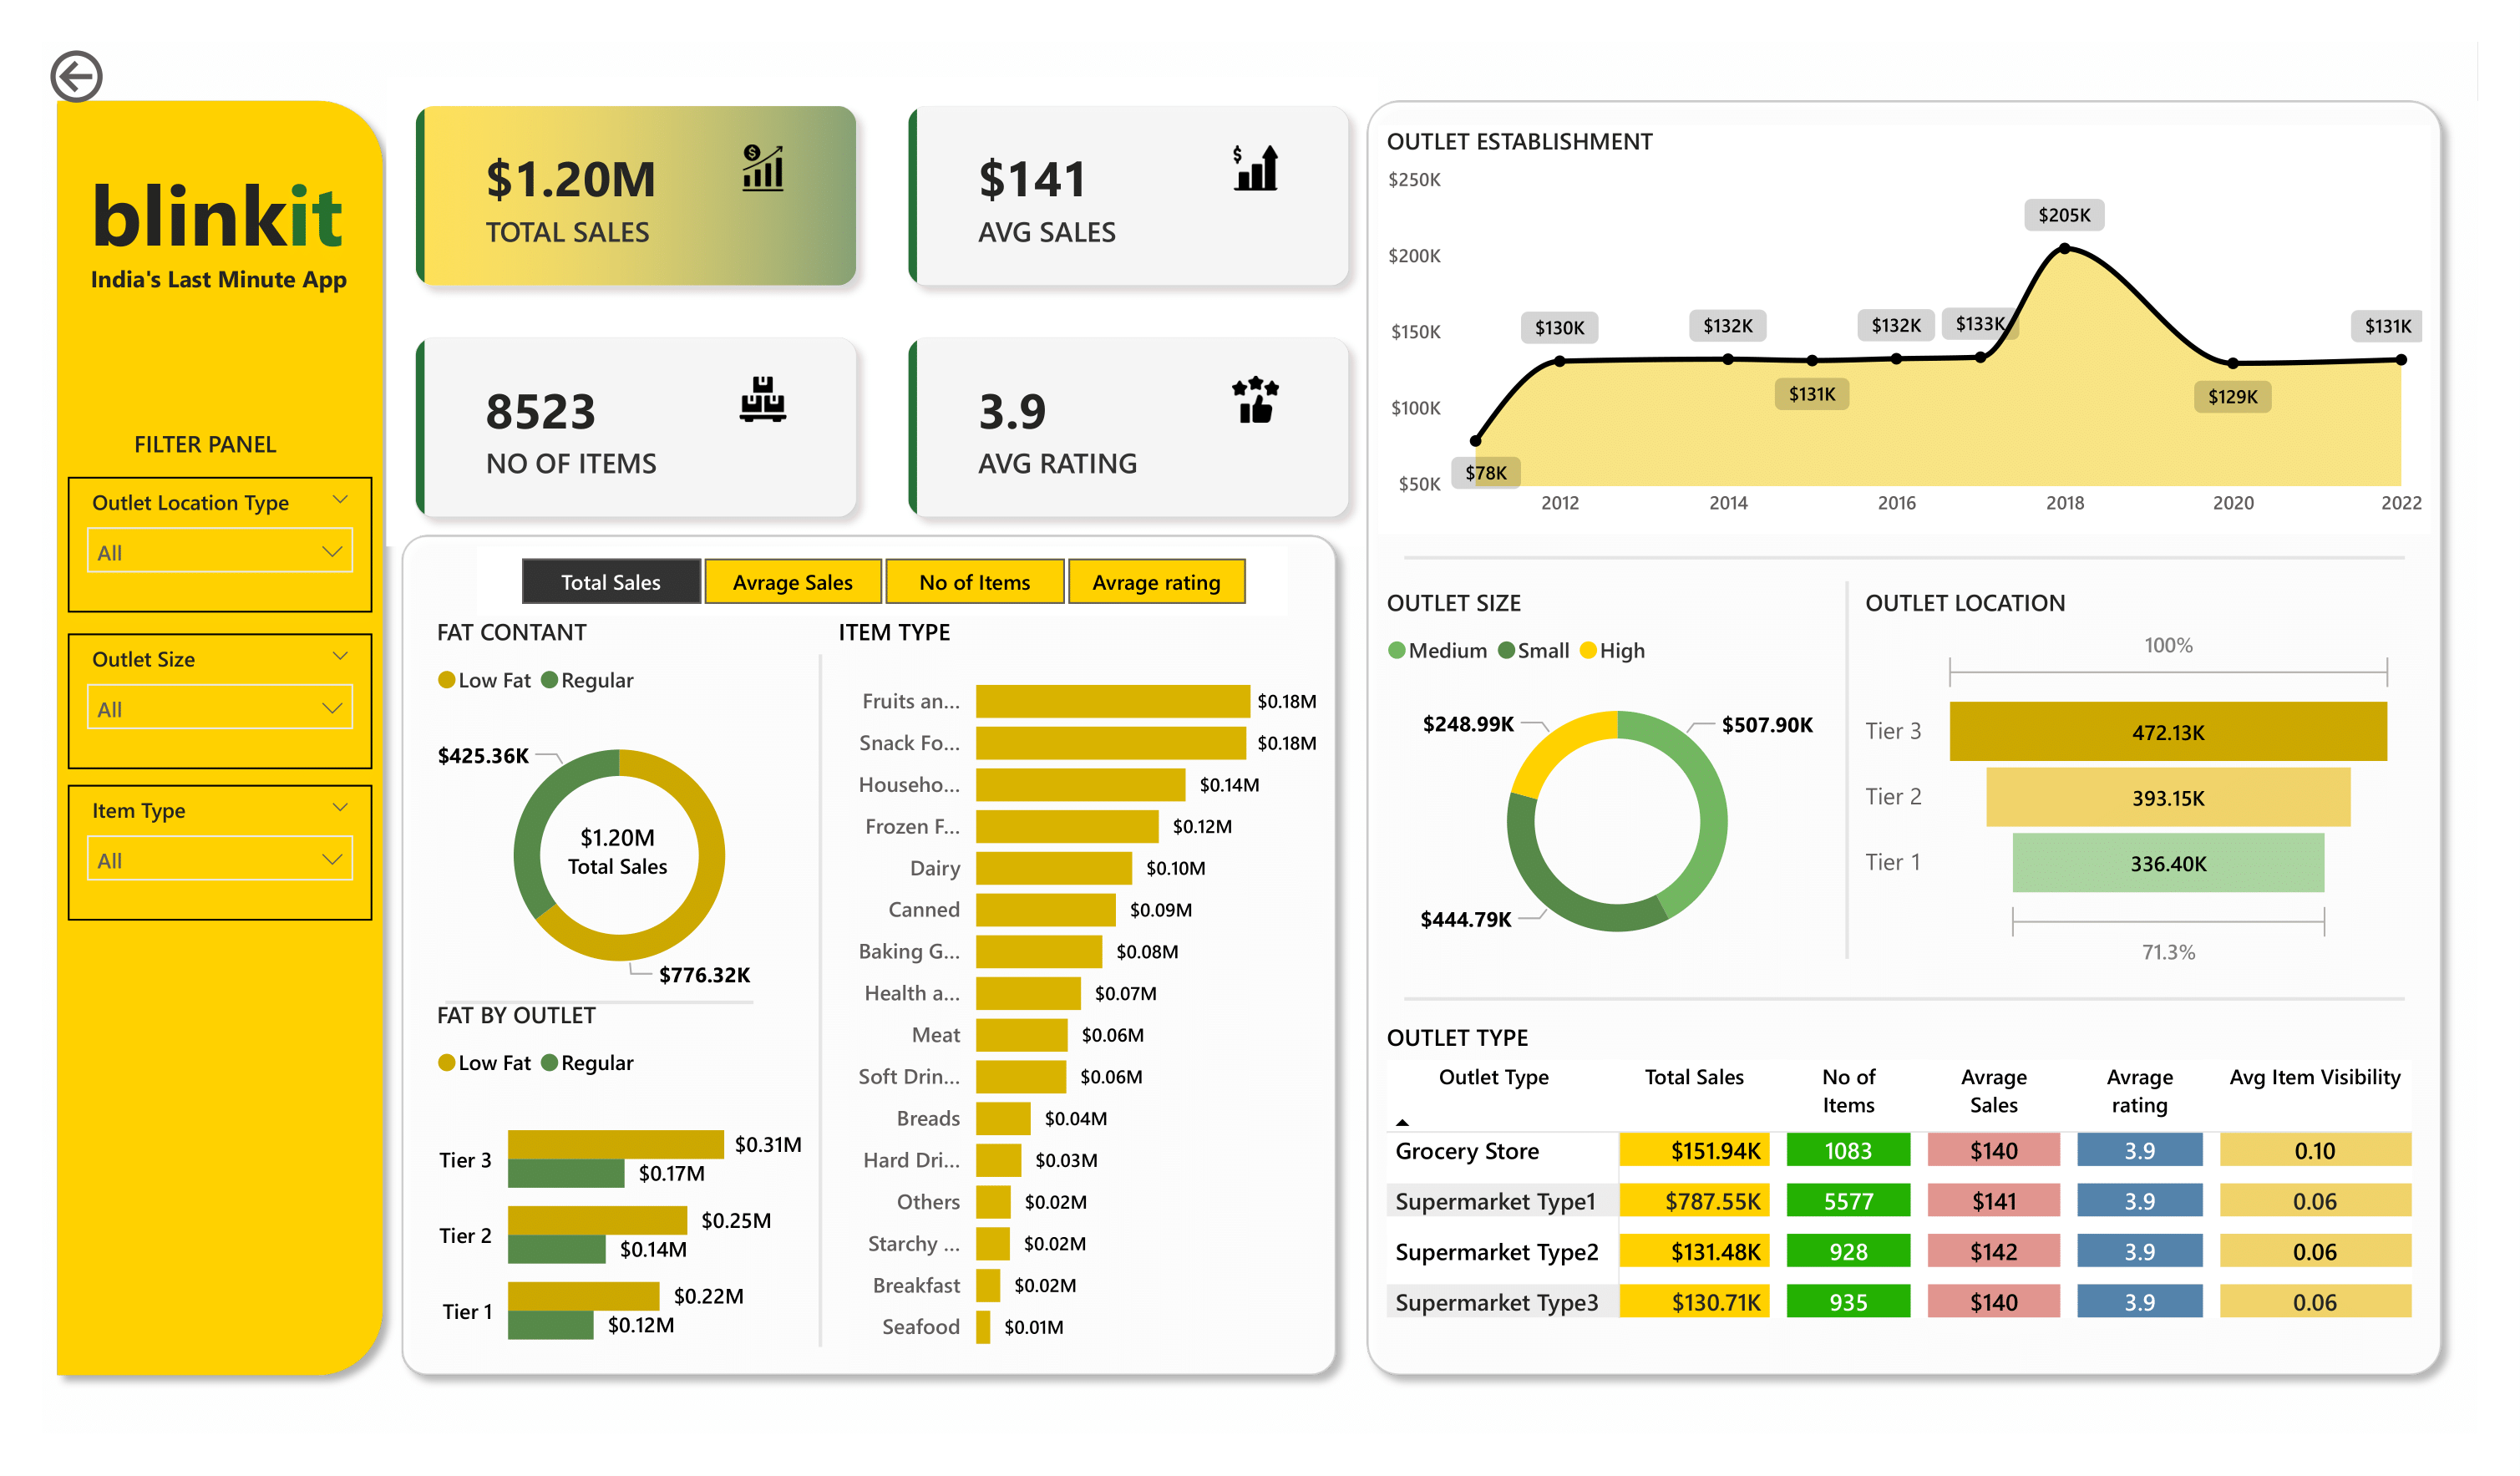

Layout of this report page (visuals, bound fields, positions):
{"tool":"powerbi","page":{"name":"Page 1","canvas":[1400,800],"ordinal":0},"visuals":[{"type":"shape","box":[0,25,205,750],"z":0},{"type":"textbox","box":[23.3,60,160,78.3],"z":1000},{"type":"textbox","box":[23.3,121.7,173.3,33.3],"z":2000},{"type":"cardVisual","fields":{"Data":["BlinkIT Grocery Data.Total Sales","BlinkIT Grocery Data.Avrage Sales","BlinkIT Grocery Data.No of Items","BlinkIT Grocery Data.Avrage rating"]},"box":[198,20,570,270],"z":3000},{"type":"shape","box":[198.3,275,555,500],"z":4000},{"type":"donutChart","title":"FAT CONTANT","fields":{"Y":["BlinkIT Grocery Data.Total Sales"],"Category":["BlinkIT Grocery Data.Item Fat Content"]},"box":[222,330,220,230],"z":5000},{"type":"slicer","fields":{"Values":["Metrics.Metrics"]},"box":[250,290,466,40],"z":6000},{"type":"cardVisual","fields":{"Data":["BlinkIT Grocery Data.Total Sales"]},"box":[260,426,142,76],"z":7000},{"type":"clusteredBarChart","title":"FAT BY OUTLET","fields":{"Y":["BlinkIT Grocery Data.Total Sales"],"Category":["BlinkIT Grocery Data.Outlet Location Type"],"Series":["BlinkIT Grocery Data.Item Fat Content"]},"box":[221.7,550,220,220],"z":8000},{"type":"shape","box":[231.8,543.6,177.3,16.4],"z":9000},{"type":"shape","box":[441.7,351.7,11.7,398.3],"z":10000},{"type":"barChart","title":" ITEM TYPE","fields":{"Category":["BlinkIT Grocery Data.Item Type"],"Y":["BlinkIT Grocery Data.Total Sales"]},"box":[453.3,330,285,433.3],"z":10001},{"type":"actionButton","box":[0,0,100,40],"z":10002},{"type":"shape","box":[753.3,25,635,750],"z":10003},{"type":"lineChart","title":"OUTLET ESTABLISHMENT","fields":{"Y":["BlinkIT Grocery Data.Total Sales"],"Category":["BlinkIT Grocery Data.Outlet Establishment Year"]},"box":[768.3,48.3,605,235],"z":10004},{"type":"shape","box":[783.3,288.3,575,16.7],"z":10005},{"type":"donutChart","title":"OUTLET SIZE","fields":{"Y":["BlinkIT Grocery Data.Total Sales"],"Category":["BlinkIT Grocery Data.Outlet Size"]},"box":[768.3,313.1,275,225],"z":10006},{"type":"shape","box":[1031.7,310,11.7,216.7],"z":10007},{"type":"funnel","title":"OUTLET LOCATION","fields":{"Y":["Sum(BlinkIT Grocery Data.Sales)"],"Category":["BlinkIT Grocery Data.Outlet Location Type"]},"box":[1043.3,313.1,315,225],"z":10008},{"type":"shape","box":[783.3,541.7,575,16.7],"z":10009},{"type":"pivotTable","title":"OUTLET TYPE","fields":{"Rows":["BlinkIT Grocery Data.Outlet Type"],"Values":["BlinkIT Grocery Data.Total Sales","BlinkIT Grocery Data.No of Items","BlinkIT Grocery Data.Avrage Sales","BlinkIT Grocery Data.Avrage rating","Avg(BlinkIT Grocery Data.Item Visibility)"]},"box":[768.3,563.3,605,190],"z":10010},{"type":"slicer","fields":{"Values":["BlinkIT Grocery Data.Outlet Location Type"]},"box":[15,250,175,78.3],"z":10011},{"type":"slicer","fields":{"Values":["BlinkIT Grocery Data.Outlet Size"]},"box":[15,340,175,78.3],"z":10012},{"type":"slicer","fields":{"Values":["BlinkIT Grocery Data.Item Type"]},"box":[15,426.7,175,78.3],"z":10013},{"type":"textbox","box":[48.3,216.7,108.3,33.3],"z":10014}]}

Visuals, with their boxes in screenshot pixels (x1, y1, x2, y2):
shape: crop(42, 85, 398, 1391)
textbox: crop(83, 146, 361, 282)
textbox: crop(83, 254, 384, 312)
cardVisual - BlinkIT Grocery Data.Total Sales x BlinkIT Grocery Data.Avrage Sales: crop(387, 77, 1378, 546)
shape: crop(387, 520, 1353, 1391)
"FAT CONTANT" donutChart: crop(428, 616, 811, 1017)
slicer - Metrics.Metrics: crop(477, 546, 1288, 616)
cardVisual - BlinkIT Grocery Data.Total Sales: crop(494, 784, 742, 916)
"FAT BY OUTLET" clusteredBarChart: crop(428, 999, 810, 1382)
shape: crop(445, 988, 753, 1017)
shape: crop(810, 654, 831, 1347)
" ITEM TYPE" barChart: crop(830, 616, 1326, 1371)
actionButton: crop(42, 42, 215, 111)
shape: crop(1353, 85, 2458, 1391)
"OUTLET ESTABLISHMENT" lineChart: crop(1379, 126, 2431, 535)
shape: crop(1405, 544, 2406, 573)
"OUTLET SIZE" donutChart: crop(1379, 586, 1858, 978)
shape: crop(1838, 581, 1858, 959)
"OUTLET LOCATION" funnel: crop(1858, 586, 2406, 978)
shape: crop(1405, 985, 2406, 1014)
"OUTLET TYPE" pivotTable: crop(1379, 1022, 2431, 1353)
slicer - BlinkIT Grocery Data.Outlet Location Type: crop(68, 477, 373, 613)
slicer - BlinkIT Grocery Data.Outlet Size: crop(68, 633, 373, 770)
slicer - BlinkIT Grocery Data.Item Type: crop(68, 784, 373, 921)
textbox: crop(126, 419, 314, 477)
